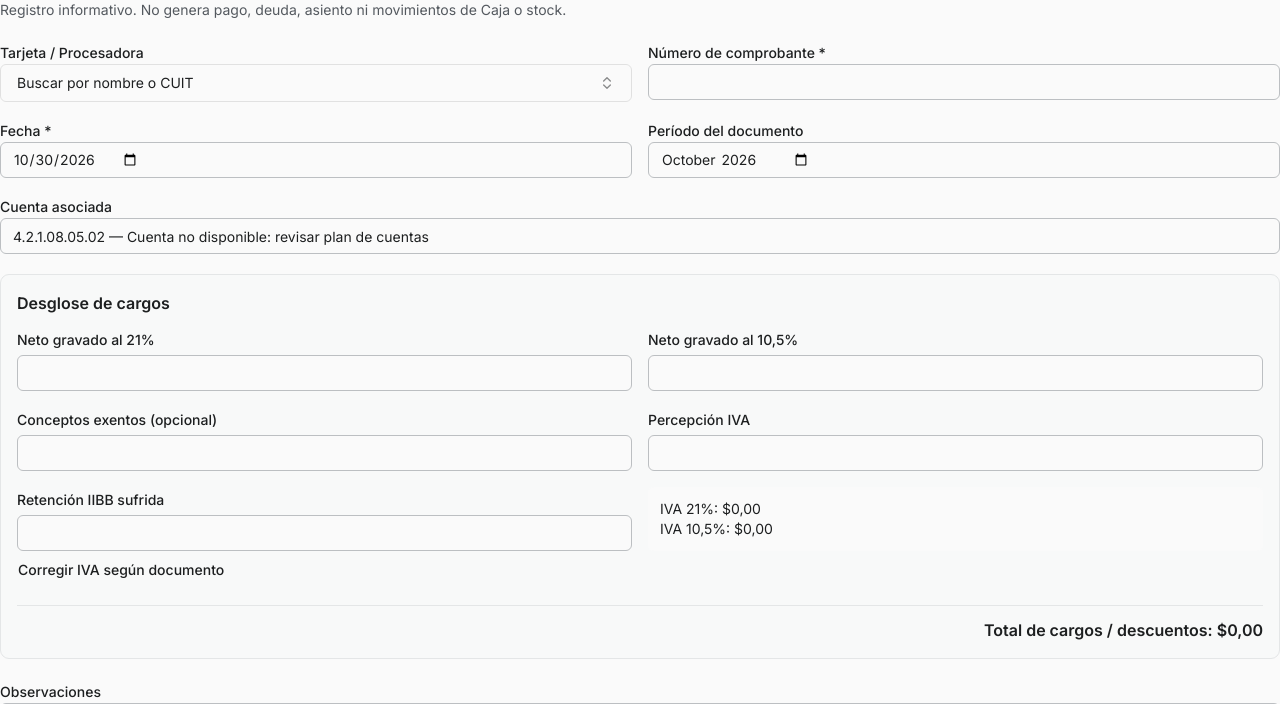
it: Emisor por CUIT en comprobantes de compras › filtra LIQ-TARJETA por CUIT y conserva la entidad seleccionada
The width and height of the screenshot is (1280, 704).
Step 1. Click the dropdown named "Tarjeta / Procesadora" → (105, 82), box [0,64,632,102]
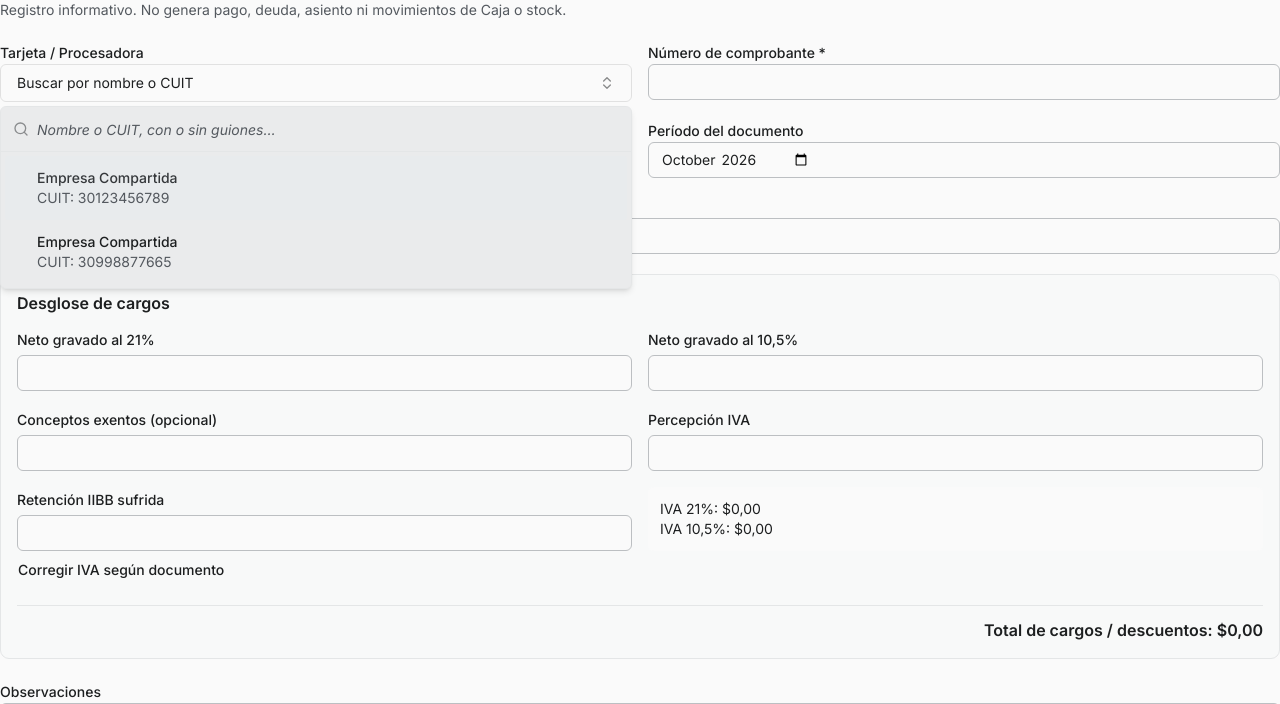
Step 2. Type "30 12345678 9" into the dropdown with placeholder "Nombre o CUIT, con o sin guiones…" → (328, 129), box [37,107,619,151]
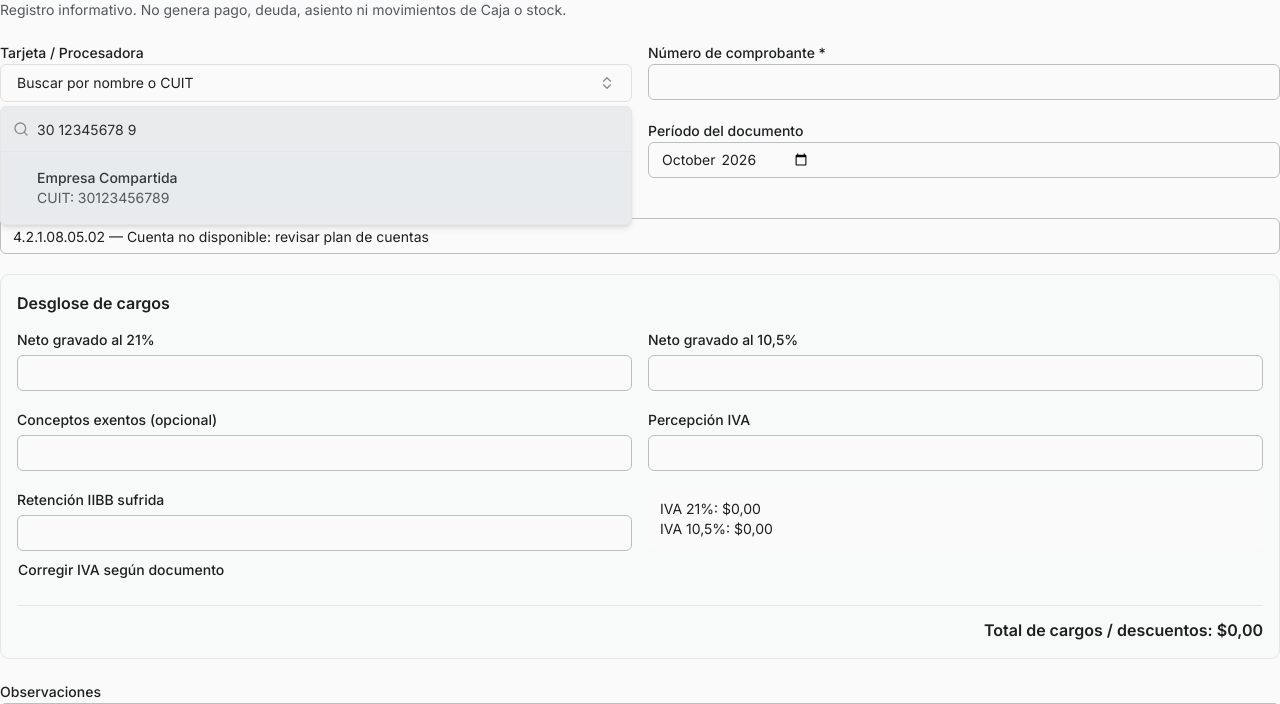
Expected: the number of options is 1, [5,156,627,220]
Expected: the option shows "Empresa Compartida", [5,156,627,220]
Step 3. Press Arrowdown Enter
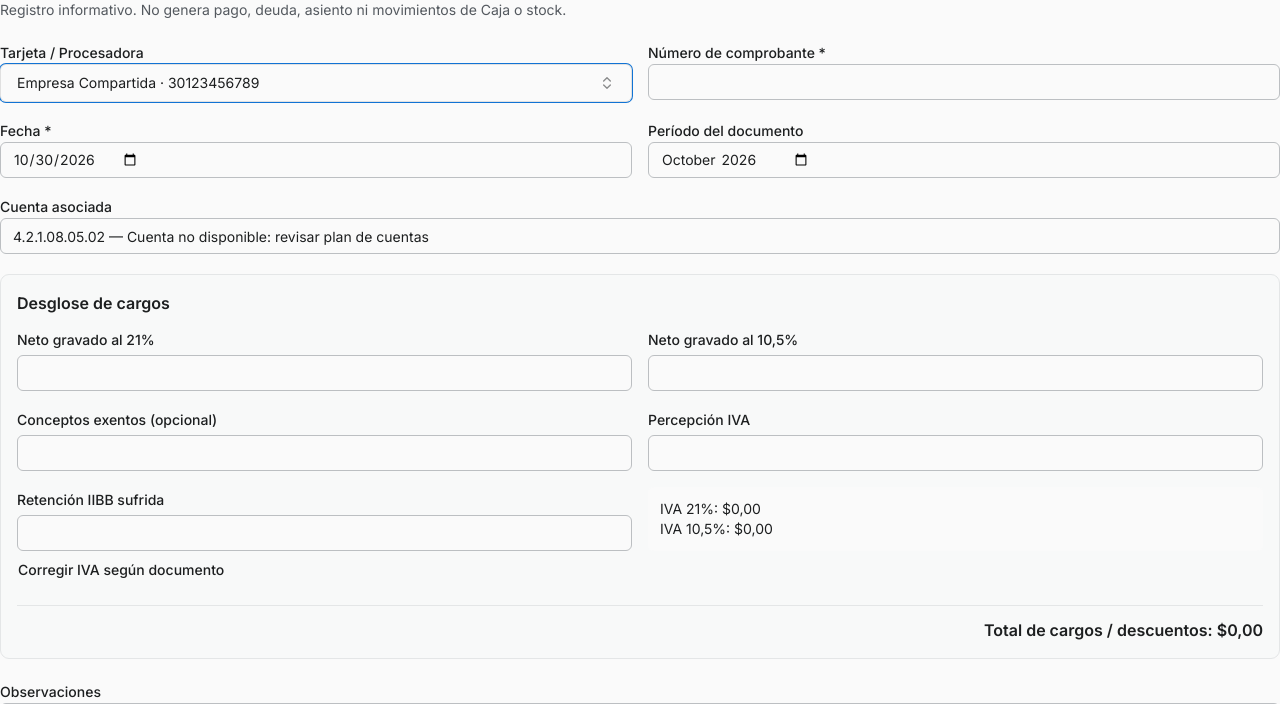
Expected: the dropdown named "Tarjeta / Procesadora" shows "Empresa Compartida", [0,64,632,102]
Expected: the option is gone
